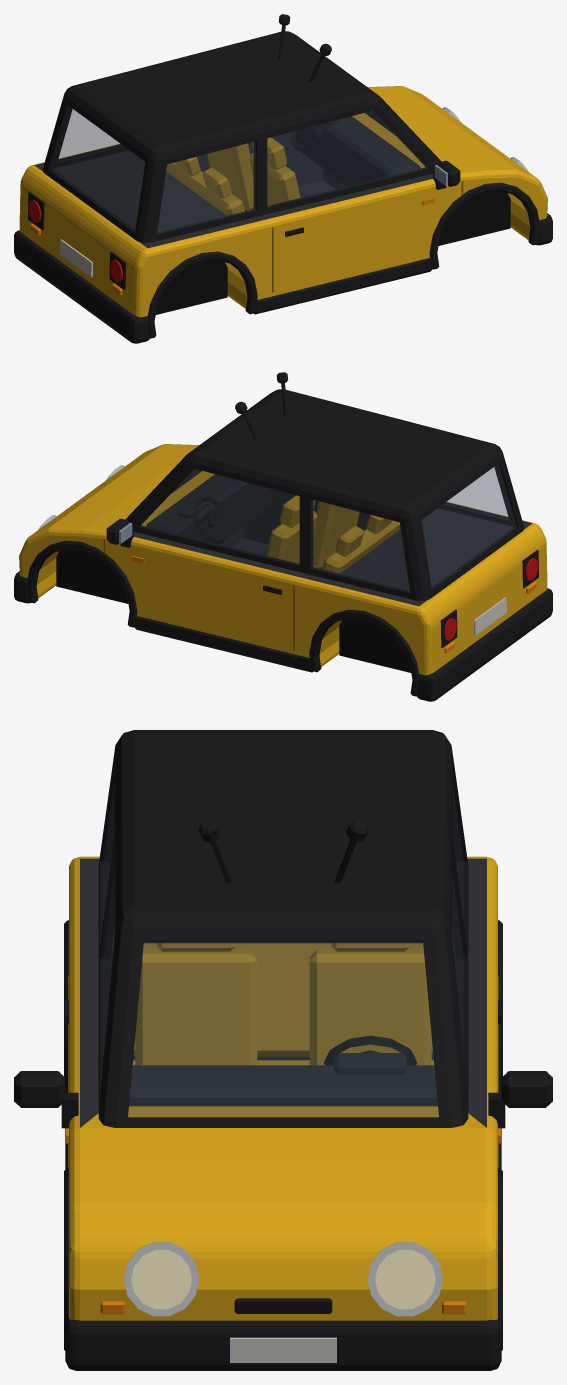
File: bee.glb
3 renders of one model, top to bottom at view 1: azimuth 30°, elevation 25°; view 2: azimuth 150°, elevation 25°; view 3: azimuth 270°, elevation 25°, orthographic. The views are drawn at different scales.
Visible parts, largest first — view 1: Body, Glass, Interior, Details, TailLights; view 2: Body, Glass, Interior, Details, TailLights; view 3: Body, Glass, Interior, Details, HeadLights.
Part boxes in pixels (x1,y1,x2,y2): Body: (14, 31, 552, 343); Glass: (50, 106, 427, 233); Interior: (166, 116, 420, 215); Details: (278, 14, 460, 189); TailLights: (28, 200, 122, 282); Body: (14, 389, 552, 701); Glass: (139, 464, 516, 591); Interior: (146, 474, 400, 573); Details: (106, 372, 288, 547); TailLights: (444, 558, 538, 640); Body: (64, 730, 502, 1370); Glass: (103, 788, 463, 1116); Interior: (129, 943, 437, 1106); Details: (14, 820, 552, 1128); HeadLights: (131, 1249, 435, 1309).
Bounding box in the file's own units: 3.6 × 1.76 × 2.21.
